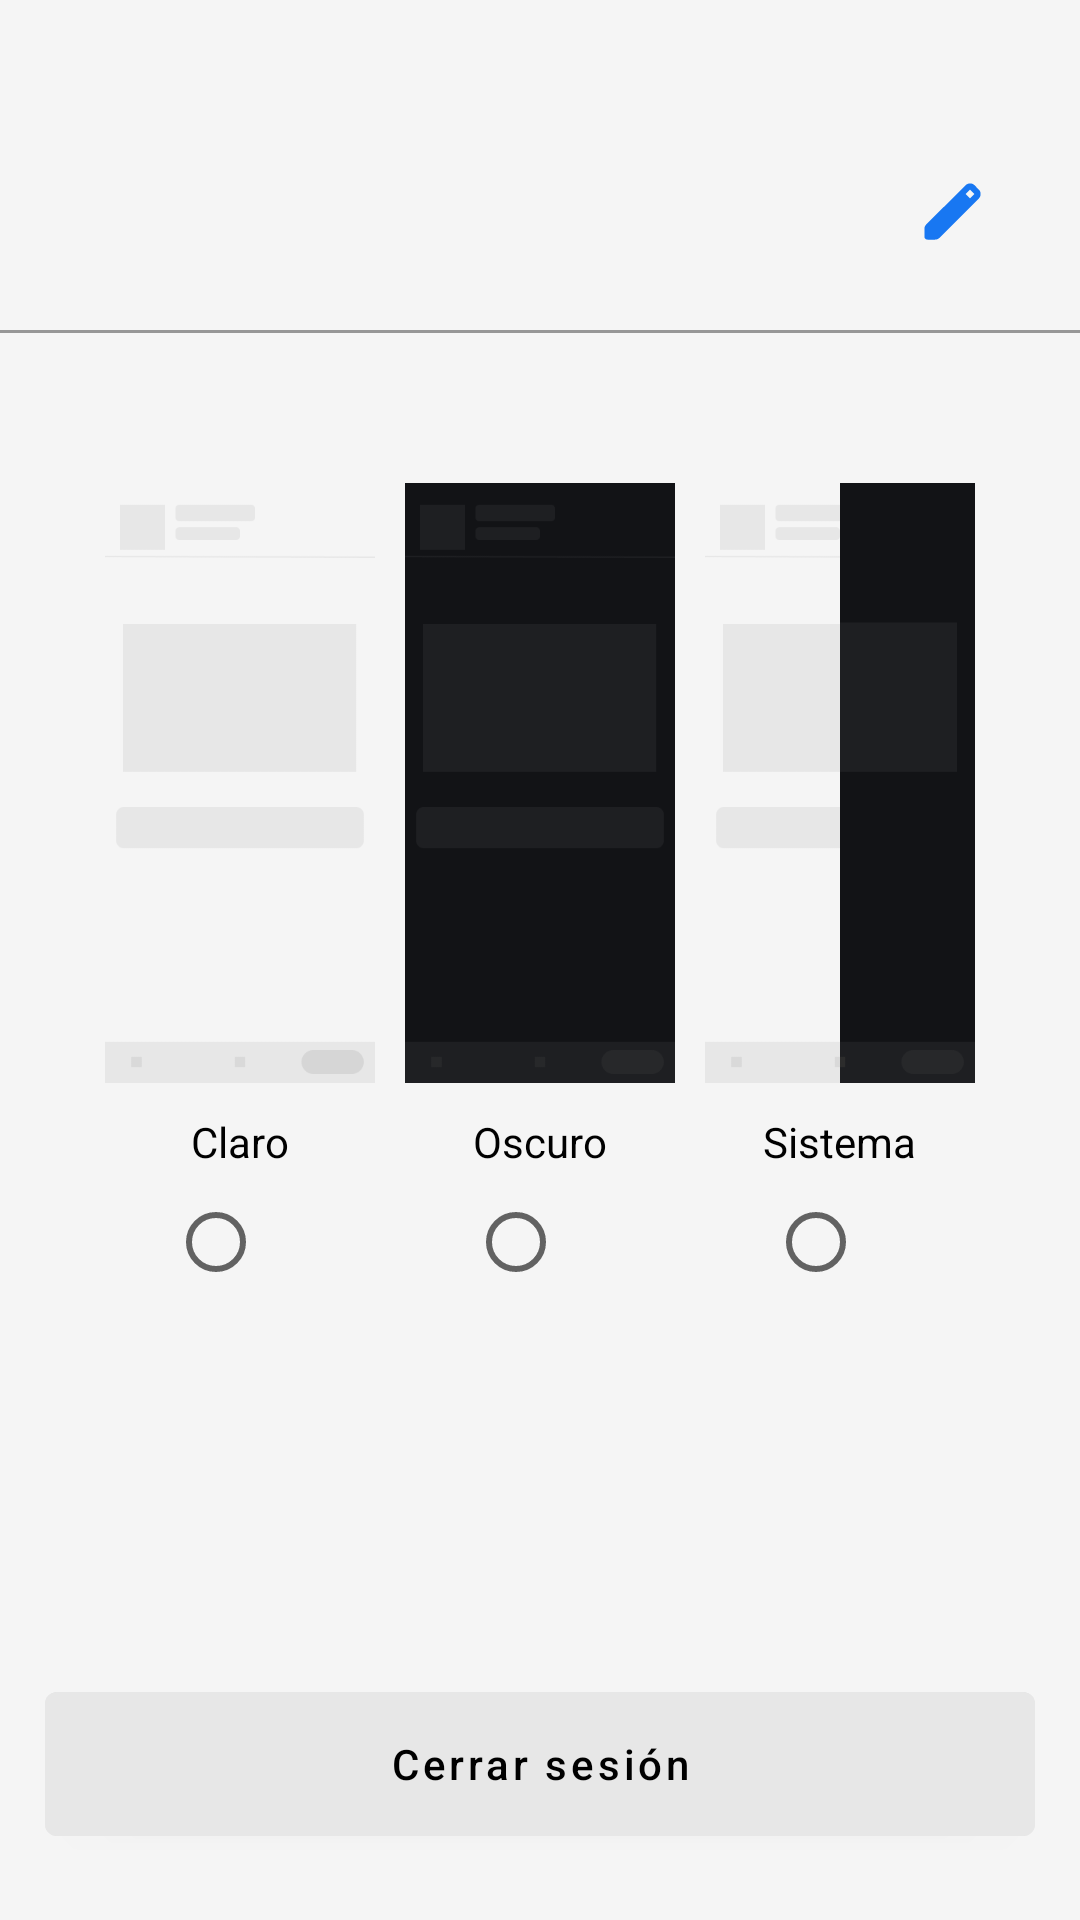

Screen size 1080*1920. Icon name, then its box in pixels as (x1, y1, x2, y2):
edit: (924, 183, 981, 240)
